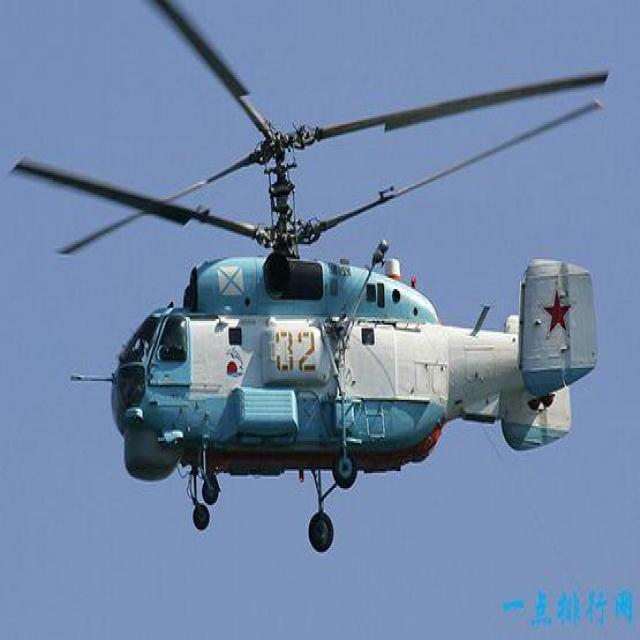MIL_HELO: (15, 0, 625, 565)
